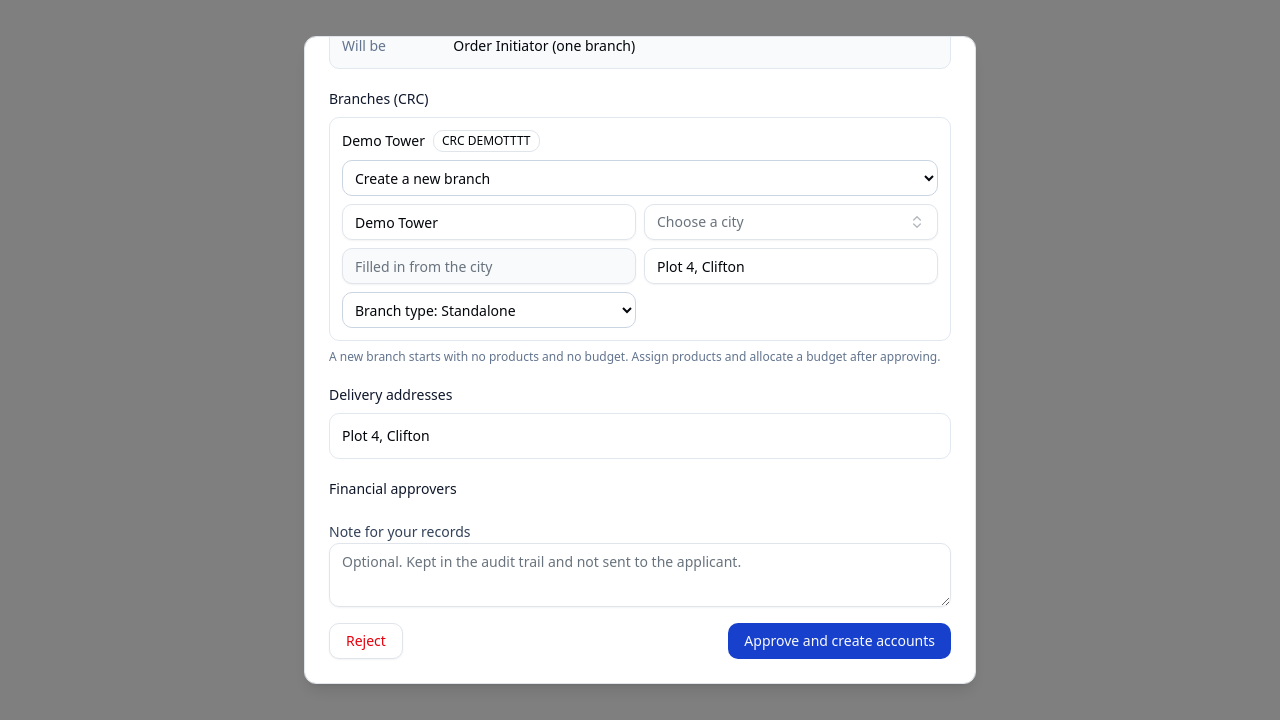
Test: DepartmentJoinReviewDialog — a new branch's details › names the missing fields and sends nothing
(page scrolled)
Expected: the field named "Province" is shown, left=342, top=248, right=636, bottom=284
Click the button "Approve and create accounts". click: (840, 641)
box: left=728, top=623, right=951, bottom=659
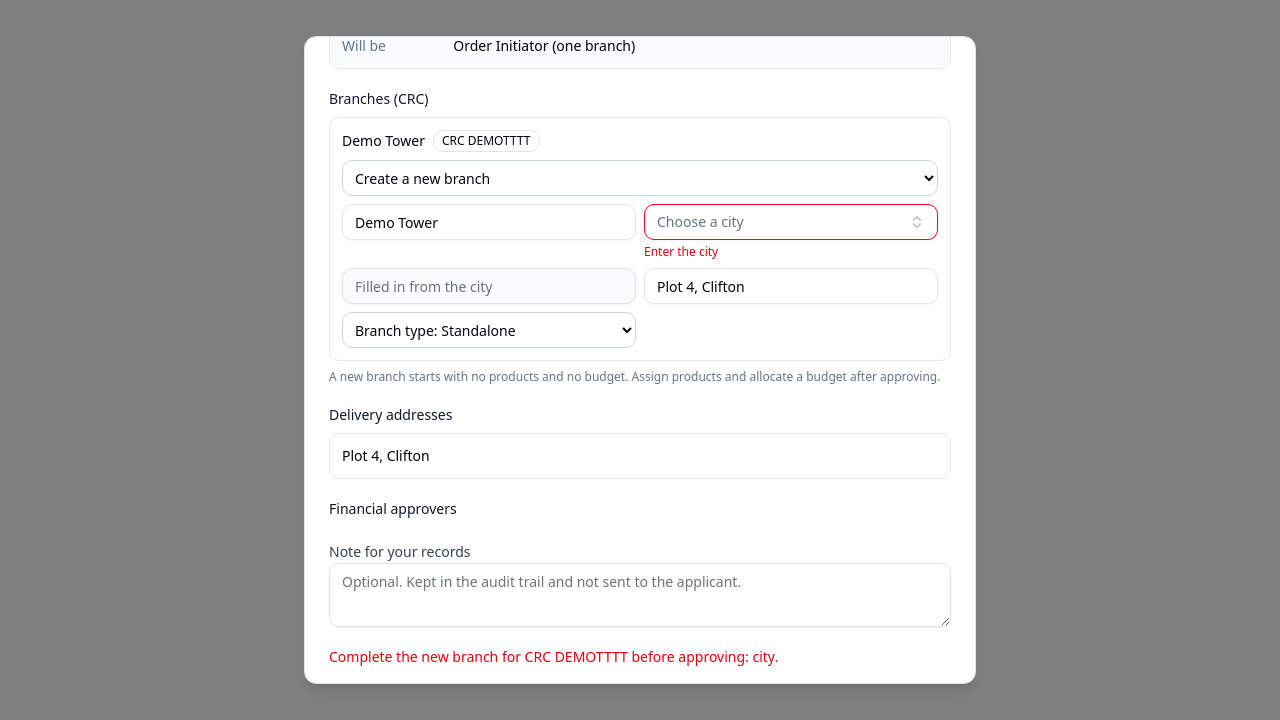
Expected: the message reads "Complete the new branch for CRC DEMOTTTT before approving: city.", left=329, top=647, right=778, bottom=666
Expected: the text "Enter the city" is shown, left=644, top=243, right=718, bottom=260
